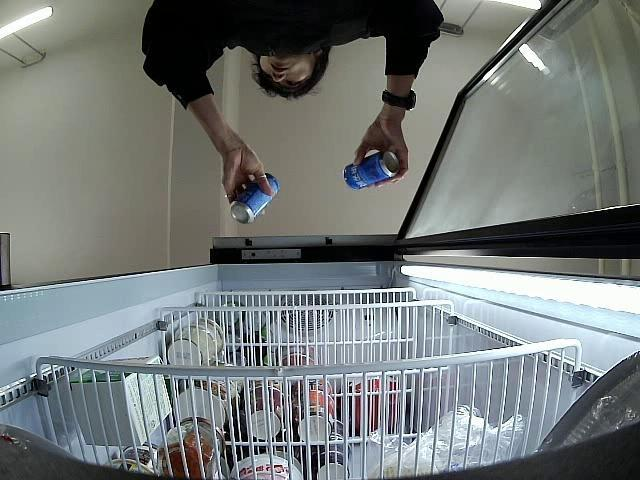15_letsbe: (230, 174, 280, 225), (344, 151, 396, 186)
